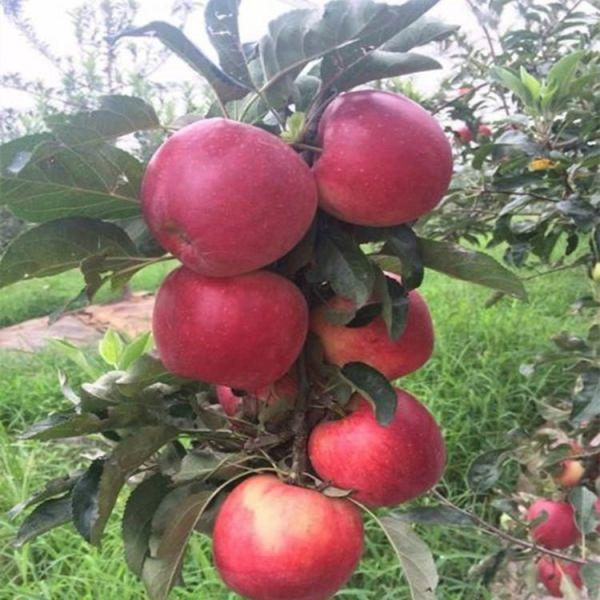apple: (140, 115, 314, 277), (150, 261, 310, 395), (205, 469, 363, 600), (306, 89, 453, 229), (304, 383, 446, 507), (307, 268, 434, 386)
